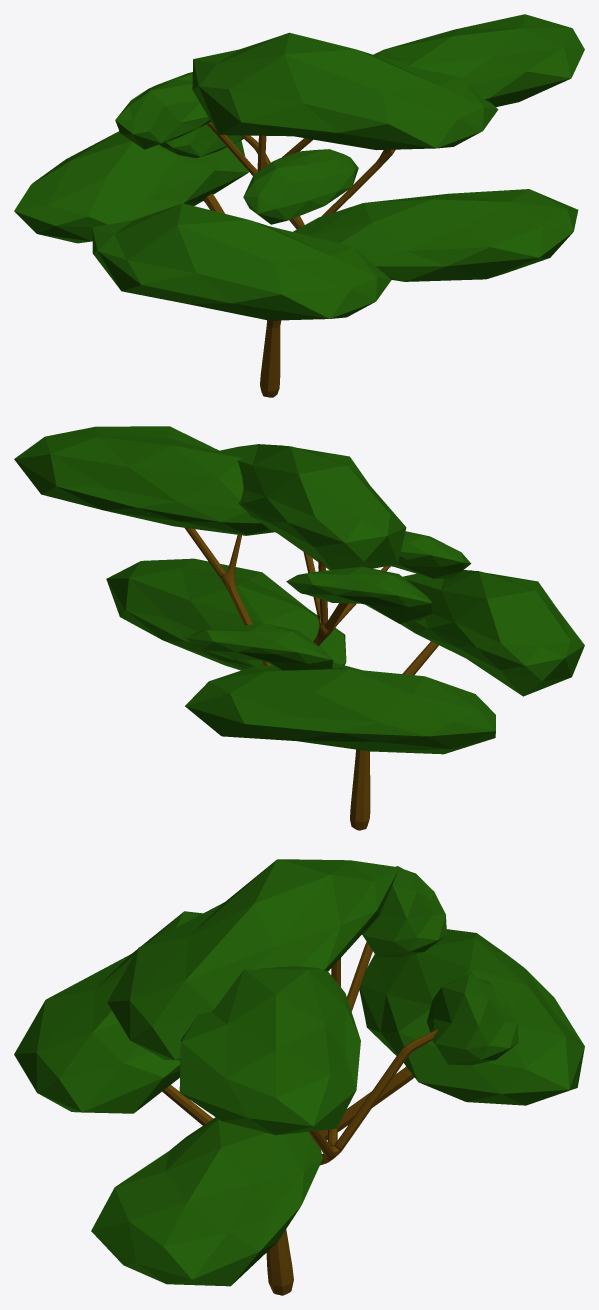
The model's file is M_acacia.fbx.
The picture shows the model from 3 angles, top to bottom: view 1: azimuth 30°, elevation 25°; view 2: azimuth 150°, elevation 25°; view 3: azimuth 270°, elevation 25°; orthographic projection. The views are drawn at different scales.
Visible parts, largest first — view 1: blaadjes.004, blaadjes.003, blaadjes.001, blaadjes.002, blaadjes, blaadjes.006, blaadjes.005, boom, blaadjes.007; view 2: blaadjes.002, blaadjes, blaadjes.004, blaadjes.003, blaadjes.001, blaadjes.005, blaadjes.007, boom, blaadjes.006; view 3: blaadjes.004, blaadjes.001, blaadjes, blaadjes.002, blaadjes.003, blaadjes.007, boom, blaadjes.005.
Boxes of the visible parts, x1,y1,x2,y2 form: blaadjes.004: (192,32,498,150); blaadjes.003: (92,203,391,320); blaadjes.001: (293,189,578,281); blaadjes.002: (14,131,248,243); blaadjes: (373,14,584,106); blaadjes.006: (243,149,358,224); blaadjes.005: (115,72,210,149); boom: (204,122,395,397); blaadjes.007: (159,124,243,158); blaadjes.002: (185,662,495,754); blaadjes: (14,426,274,535); blaadjes.004: (217,444,406,569); blaadjes.003: (400,570,584,696); blaadjes.001: (106,558,346,670); blaadjes.005: (286,566,433,623); blaadjes.007: (186,623,333,670); boom: (184,527,438,830); blaadjes.006: (389,531,471,578); blaadjes.004: (107,859,399,1060); blaadjes.001: (91,1117,322,1286); blaadjes: (179,966,360,1135); blaadjes.002: (359,929,584,1105); blaadjes.003: (14,911,202,1113); blaadjes.007: (427,974,518,1065); boom: (162,942,438,1295); blaadjes.005: (362,866,446,957).
Bounding box in the file's own units: 1460 × 939 × 1090.
